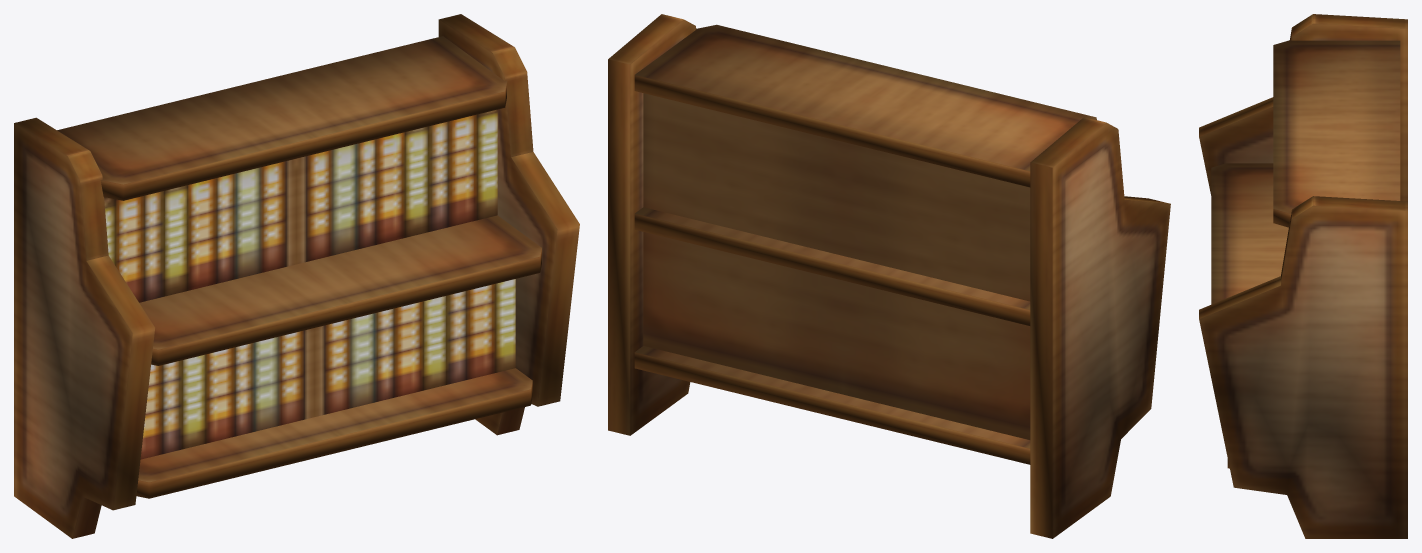
The model's file is a_SWIbooks04.glb.
3 renders of one model, left to right at view 1: azimuth 30°, elevation 25°; view 2: azimuth 150°, elevation 25°; view 3: azimuth 270°, elevation 25°, orthographic. The views are drawn at different scales.
Parts seen in each view (by area): view 1: a_SWIbooks04; view 2: a_SWIbooks04; view 3: a_SWIbooks04.
Part boxes in pixels (x1,y1,x2,y2): a_SWIbooks04: (14, 14, 579, 538); a_SWIbooks04: (608, 14, 1170, 538); a_SWIbooks04: (1199, 14, 1407, 538).
Bounding box in the file's own units: 1.21 × 0.9794 × 0.5561.
Materials: 1 (1 with a texture image).
